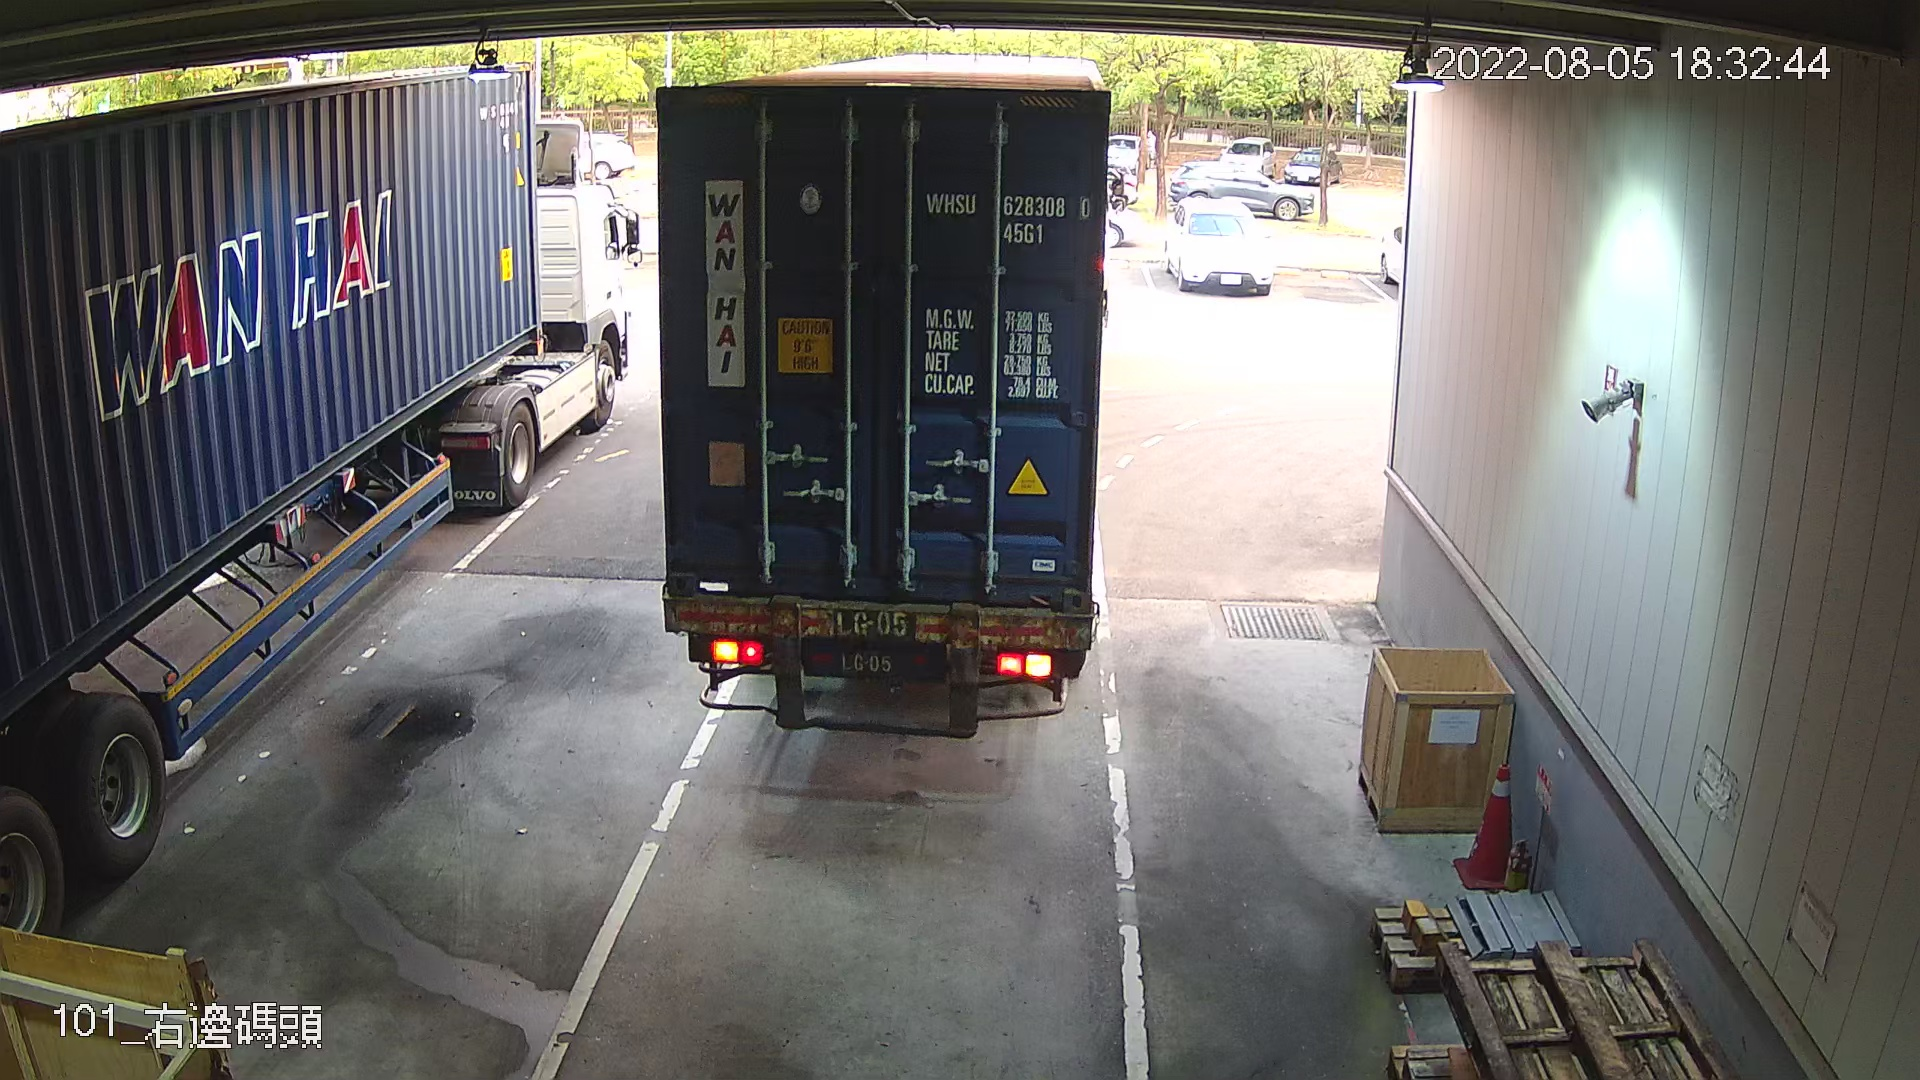container: (916, 179, 1097, 255)
